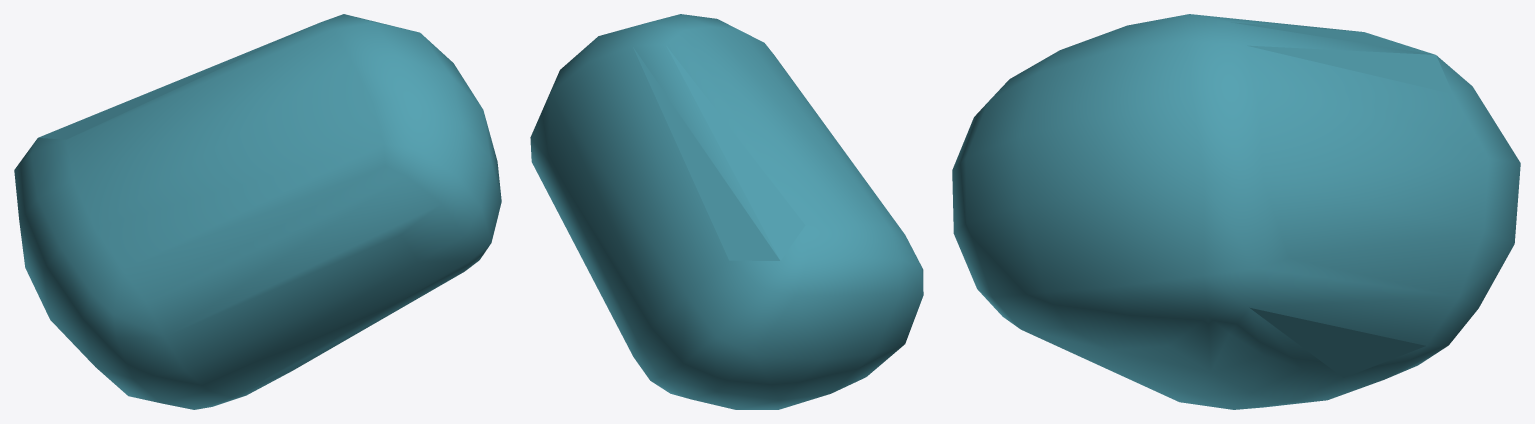
Rendered from COL_Alpha_Surface_017_convex_hull.dae.
3 views of the same model, side by side, from view 1: azimuth 30°, elevation 25°; view 2: azimuth 150°, elevation 25°; view 3: azimuth 270°, elevation 25° (orthographic). The views are drawn at different scales.
Visible parts, largest first — view 1: COL_Alpha_Surface_017_convex_hull; view 2: COL_Alpha_Surface_017_convex_hull; view 3: COL_Alpha_Surface_017_convex_hull.
Boxes of the visible parts, box(x1,y1,x2,y2) form: COL_Alpha_Surface_017_convex_hull: box(14, 14, 501, 409); COL_Alpha_Surface_017_convex_hull: box(530, 14, 923, 409); COL_Alpha_Surface_017_convex_hull: box(952, 14, 1520, 409).
Bounding box in the file's own units: 4.26 × 3.96 × 3.48.
